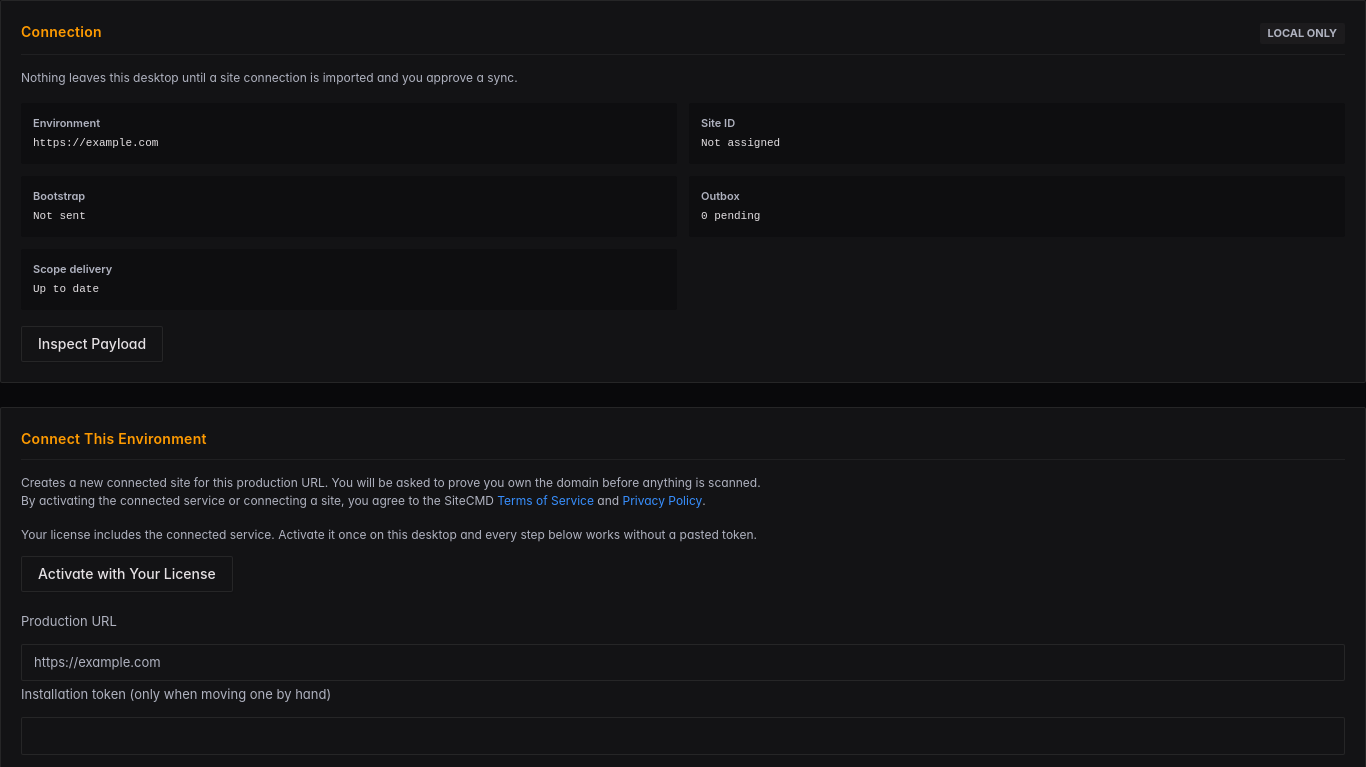
Test case: ConnectedServiceSection › exchanges the license for the connected credential without a pasted token
This screenshot has width=1366, height=767.
Click the button "Activate with Your License": click(127, 574) [21,556,233,592]
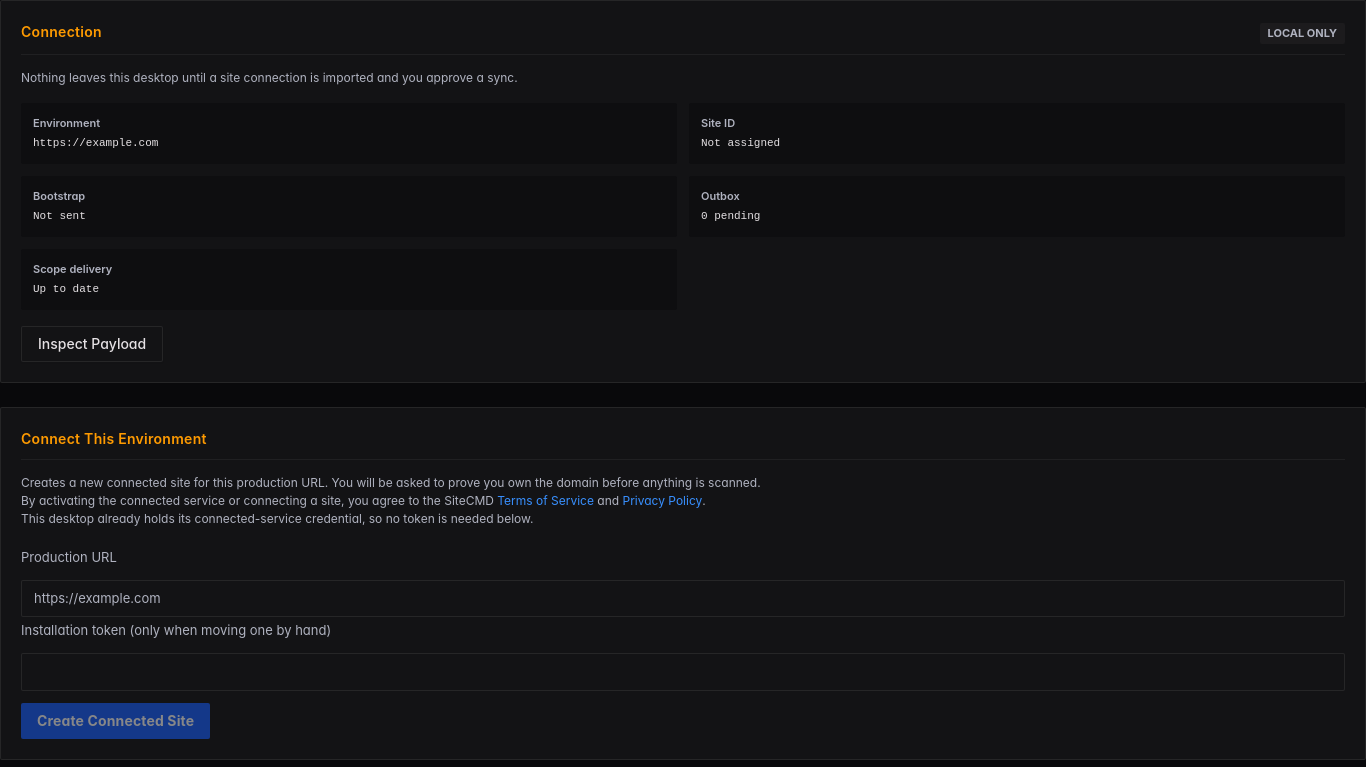
Now the text "already holds its connected-service credential" is shown, box [21,510,534,526]
